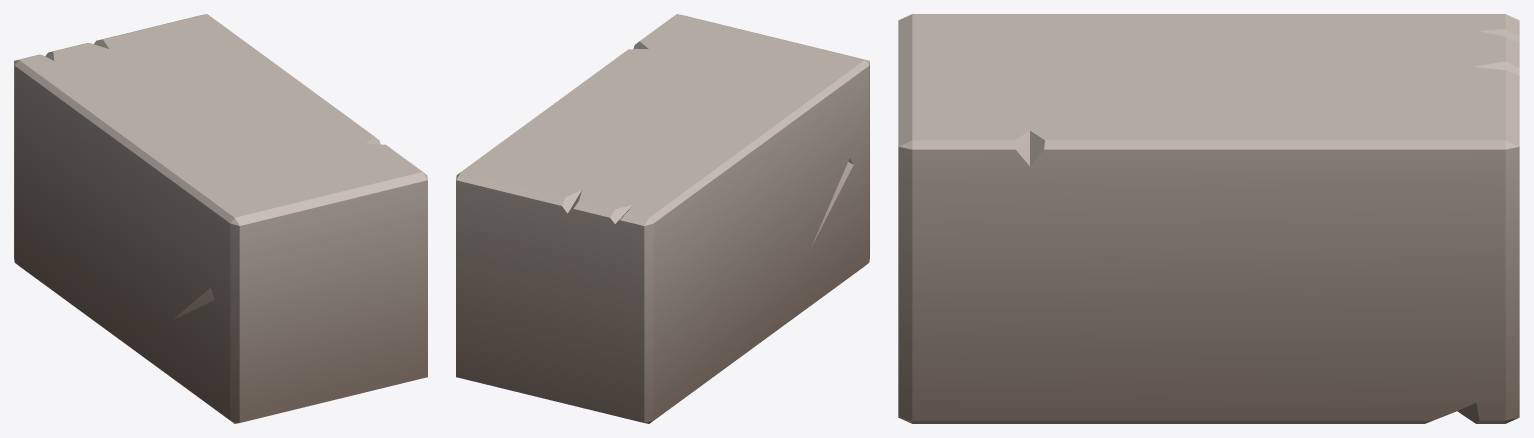
File: hammerHead.fbx
3 views of the same model, side by side, from view 1: azimuth 30°, elevation 25°; view 2: azimuth 150°, elevation 25°; view 3: azimuth 270°, elevation 25° (orthographic). The views are drawn at different scales.
Parts seen in each view (by area): view 1: Hammer; view 2: Hammer; view 3: Hammer.
Boxes of the visible parts, bbox=[...] form: Hammer: bbox=[14, 14, 427, 423]; Hammer: bbox=[456, 14, 869, 423]; Hammer: bbox=[898, 14, 1519, 423].
Bounding box in the file's own units: 104 × 104 × 207.
